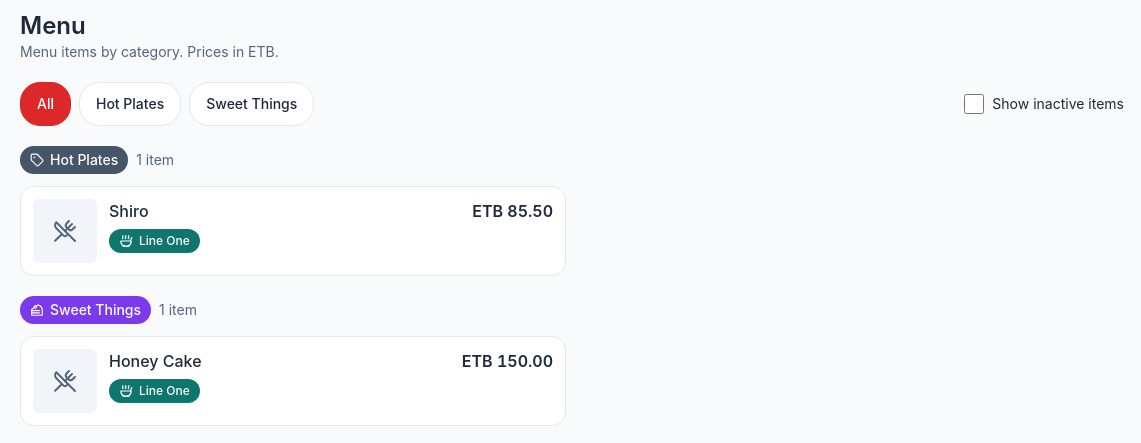
Test: MenuPage › groups active items by category row in sort order, with filters generated from the rows (view only)
Expected: the text "ETB 85.50" is shown, [472,199,553,223]
Expected: the text "Old Dish" is not shown
Click the button "Sweet Things": [252, 104] box [189,82,314,126]
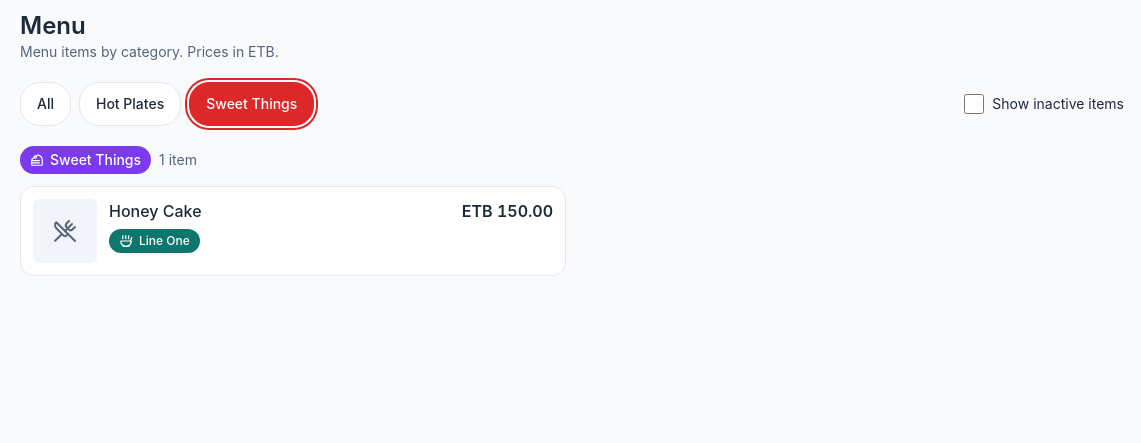
Expected: the heading "Honey Cake" is shown, [109,199,202,223]
Now the heading "Shiro" is gone
Click the checkbox labelled "Show inactive items": [974, 104] box [964,94,984,114]
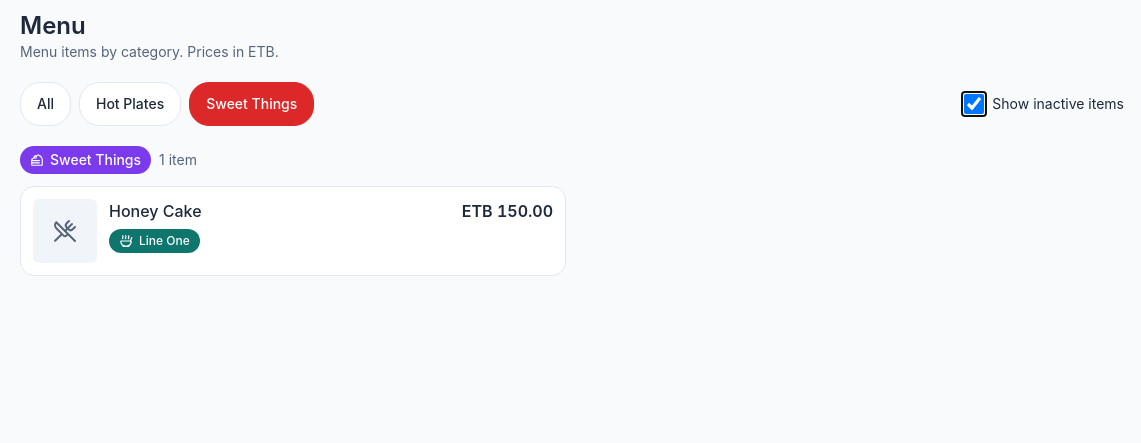
Click the button "All": [46, 104] box [20,82,71,126]
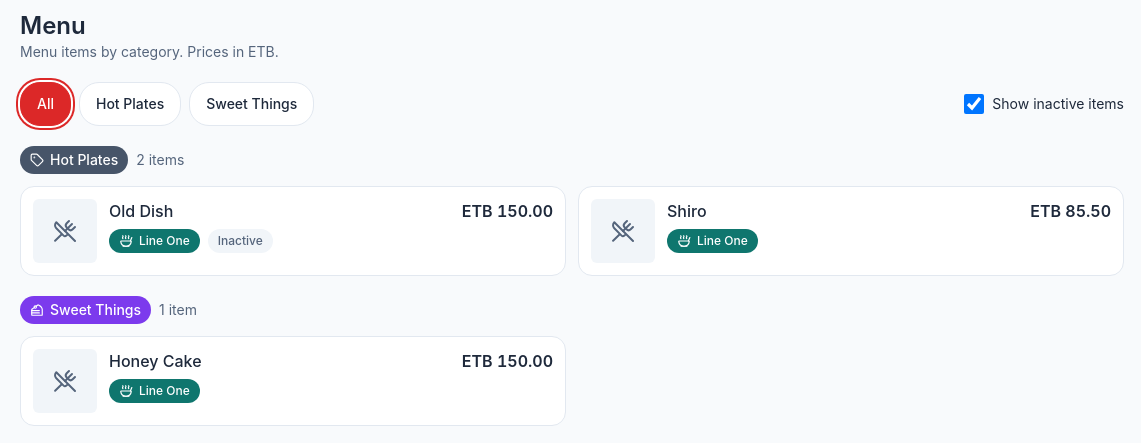
Now the heading "Old Dish" is shown, box [109,199,173,223]
